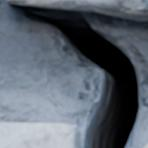brick: (6, 0, 147, 20)
broken_brick: (0, 122, 81, 147)
crack: (2, 0, 145, 147)
